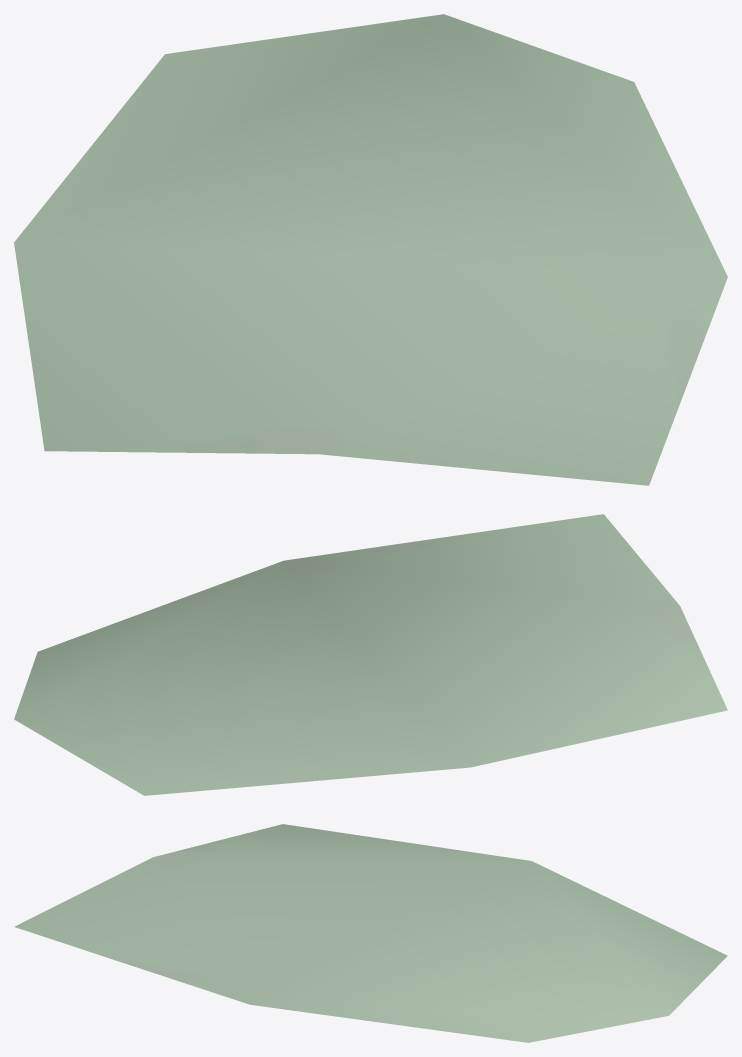
The model's file is TROLLHOLE02_HOLECAP140.fbx.
3 views of the same model, one above another, from view 1: azimuth 30°, elevation 25°; view 2: azimuth 150°, elevation 25°; view 3: azimuth 270°, elevation 25° (orthographic). The views are drawn at different scales.
Visible parts, largest first — view 1: TROLLHOLE02_HOLECAP140; view 2: TROLLHOLE02_HOLECAP140; view 3: TROLLHOLE02_HOLECAP140.
Boxes of the visible parts, <box> form: TROLLHOLE02_HOLECAP140: <box>14,14,727,485</box>; TROLLHOLE02_HOLECAP140: <box>14,514,727,795</box>; TROLLHOLE02_HOLECAP140: <box>14,824,727,1042</box>.
Bounding box in the file's own units: 21505 × 1039 × 26962.
1 material, 1 textured.
